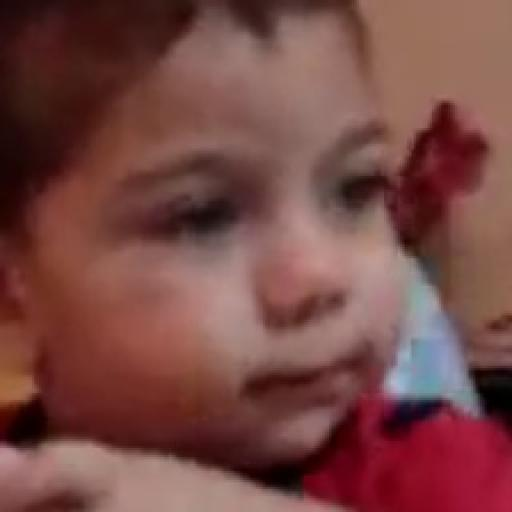Autism: (19, 0, 462, 499)
